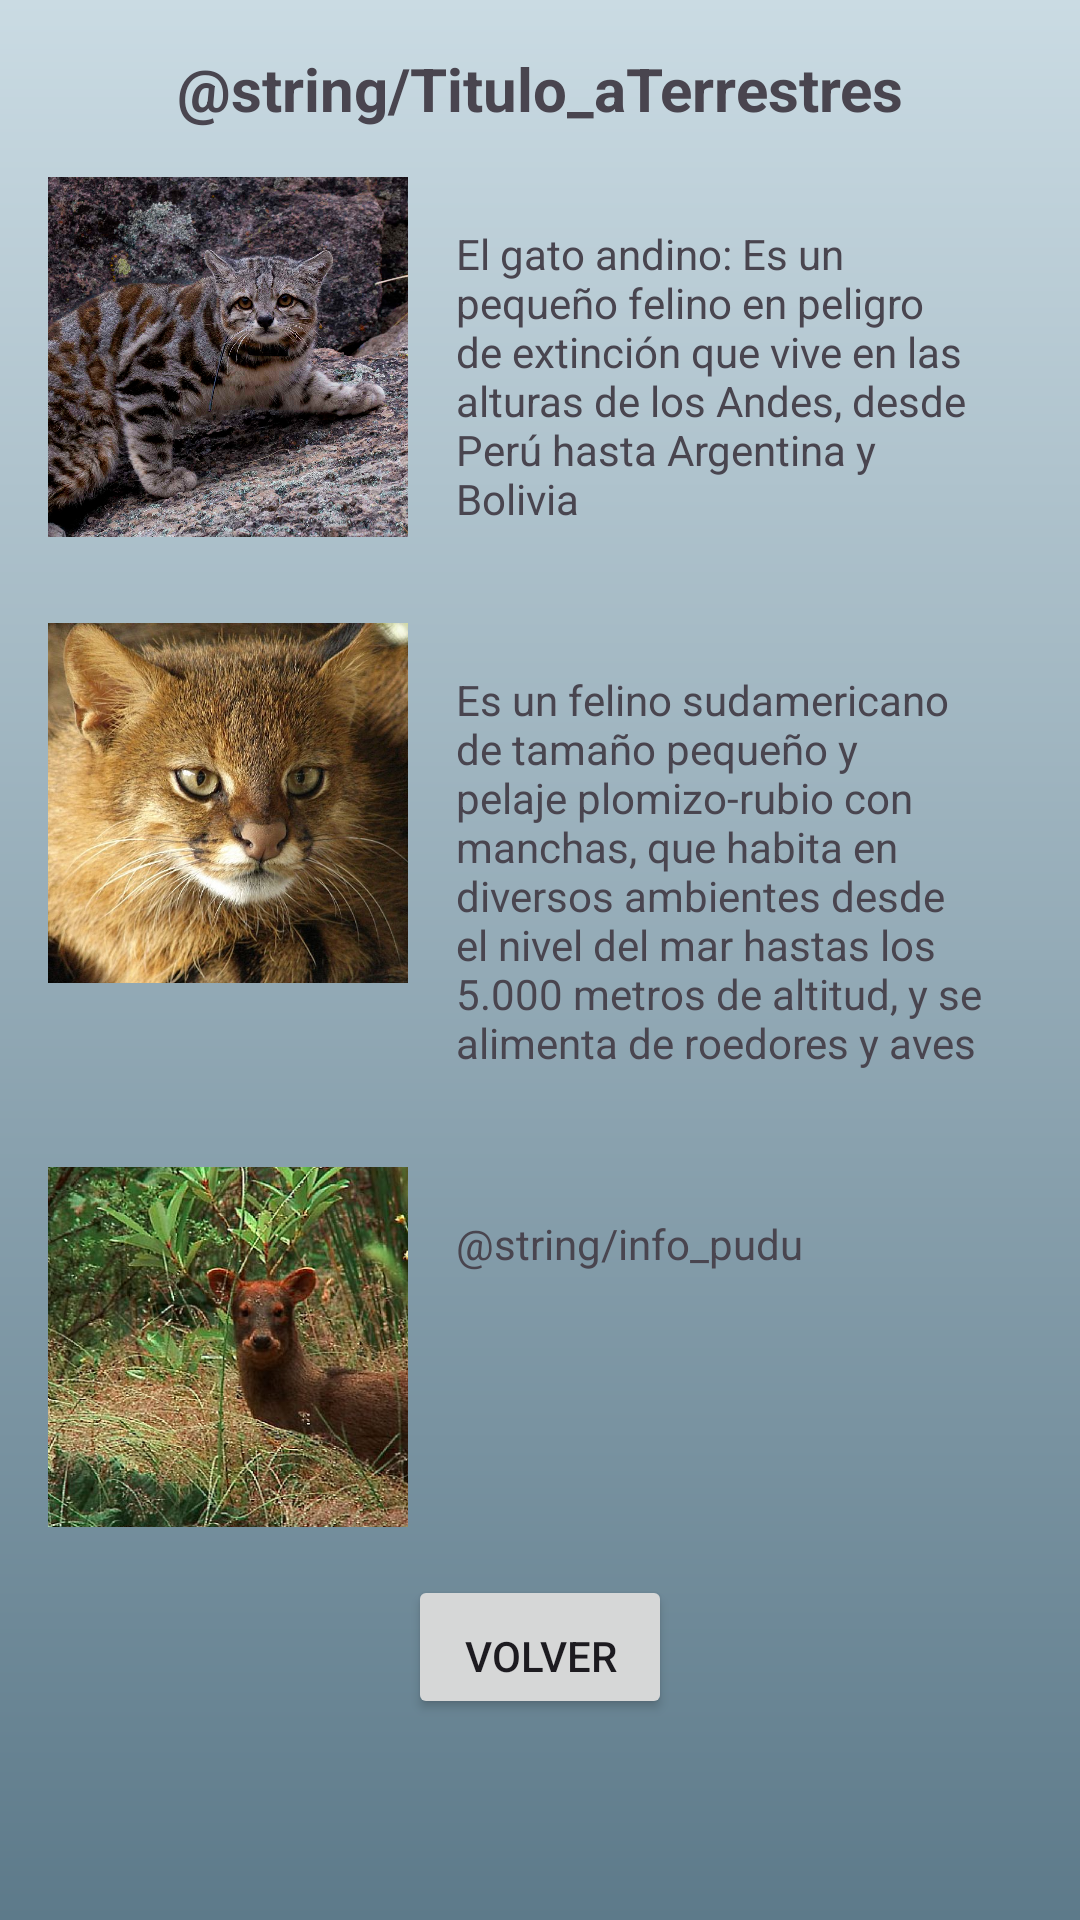

Icons on this 1080×1920 Android screen, each with the point to tap as (x=x, y=y):
colocolo marcio motta: (x=228, y=803)
gato andino chile: (x=228, y=357)
